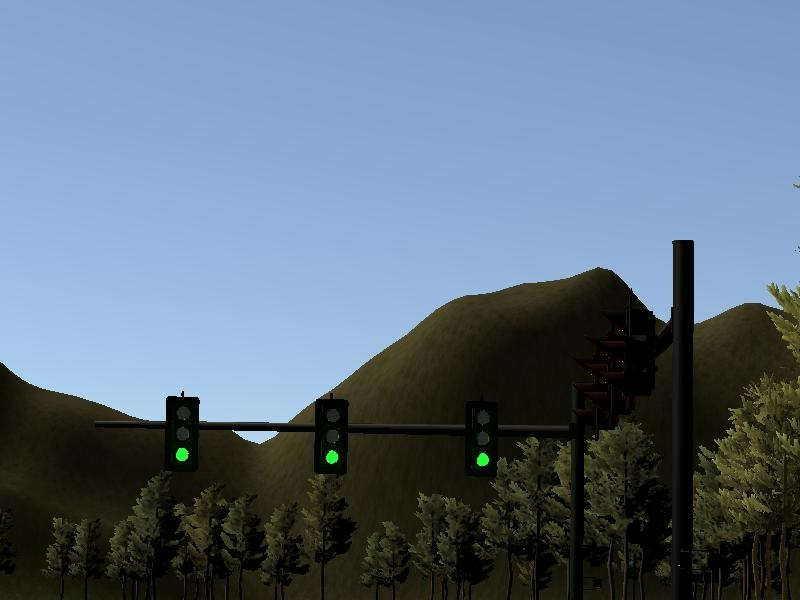GREEN: (165, 395, 197, 466), (315, 399, 347, 470), (466, 401, 498, 472)
